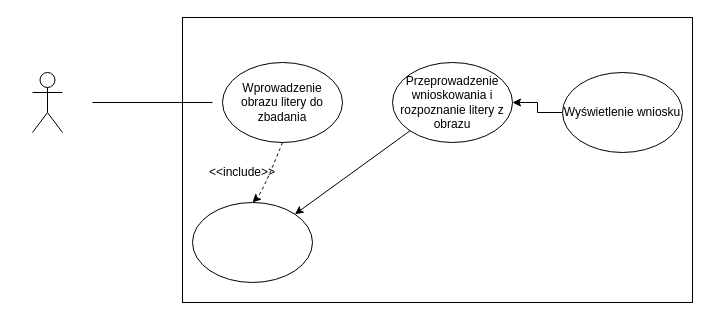
This 710x320 diagram has some shape labels left out. The shapes that lost their labels are listed below. From the top down, each one's centre as x and y in pixels, then its label:
At point 47,102: "Użytkownik".
At point 252,242: "Przeprowadź binaryzację obrazu".
